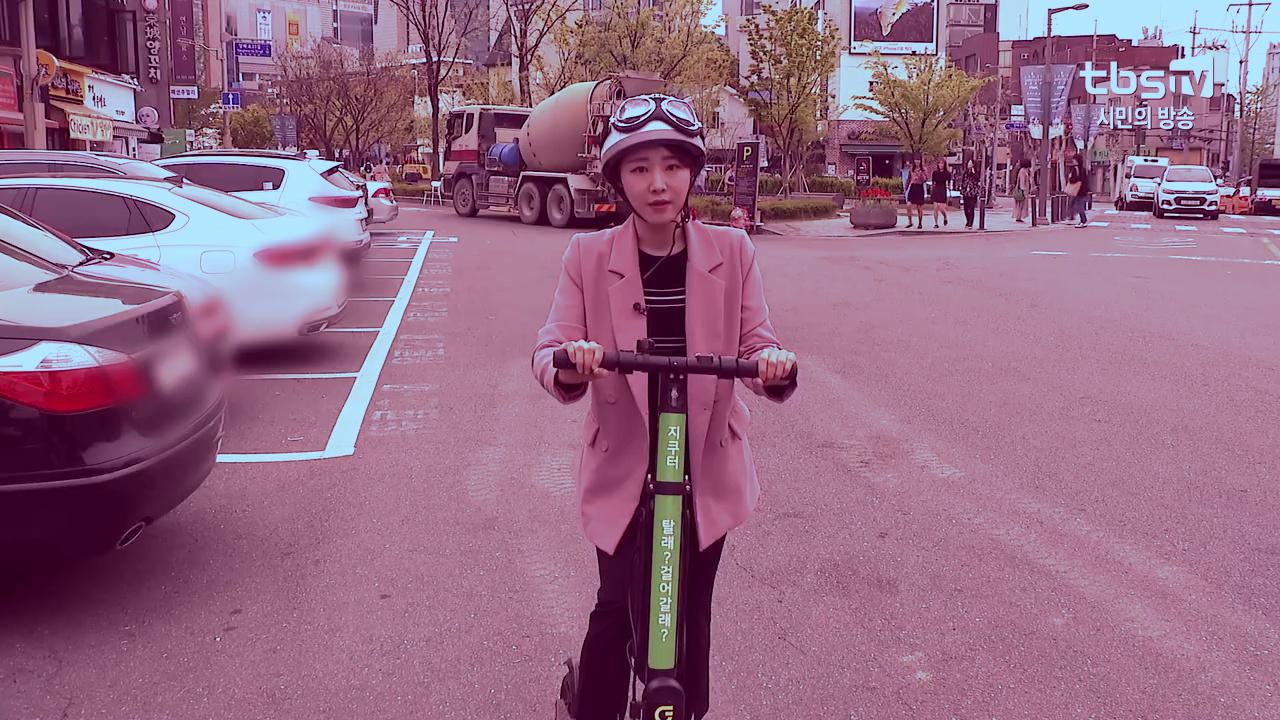helmet: (531, 93, 801, 720)
